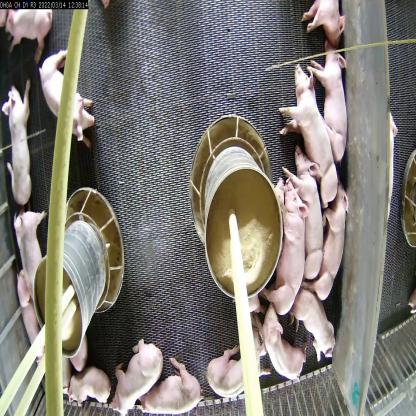Pig: (278, 59, 340, 210), (34, 40, 98, 154), (306, 33, 354, 171), (4, 211, 55, 309), (312, 180, 352, 304), (289, 148, 326, 282), (0, 83, 36, 219), (105, 333, 163, 415), (274, 168, 305, 310), (139, 352, 204, 415), (205, 338, 268, 402), (262, 304, 306, 384), (291, 290, 339, 362), (68, 360, 118, 410), (16, 278, 38, 351)
